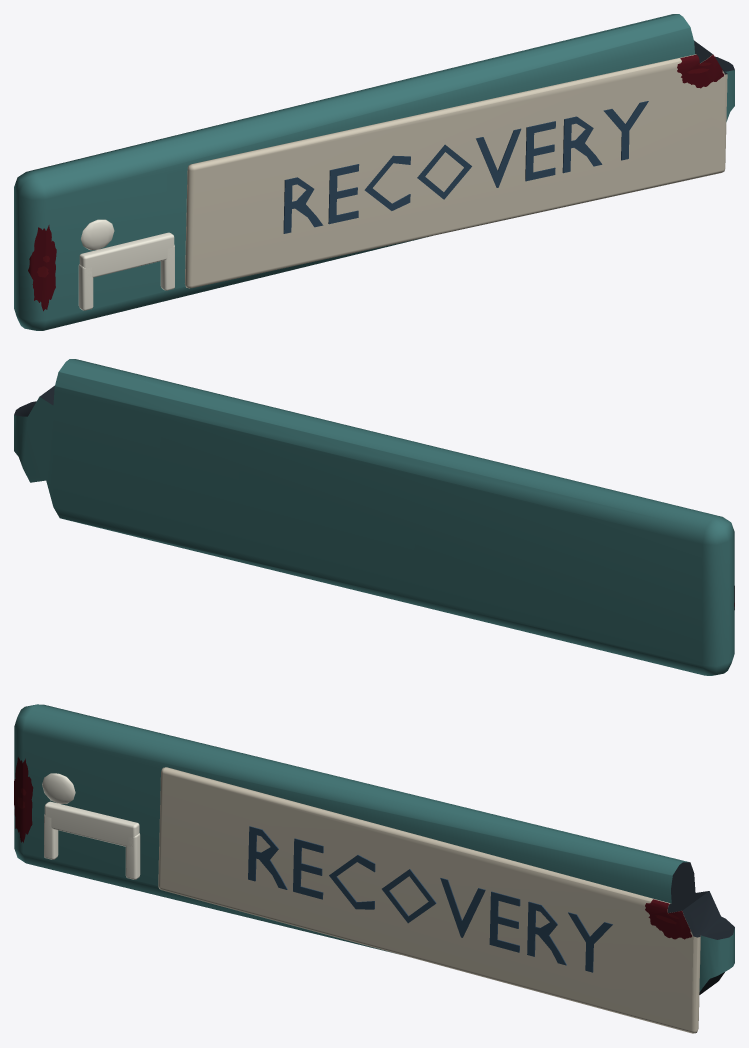
Rendered from room_sign_family.glb.
3 views of the same model, one above another, from view 1: azimuth 30°, elevation 25°; view 2: azimuth 150°, elevation 25°; view 3: azimuth 330°, elevation 25° (orthographic).
Parts seen in each view (by area): view 1: room_sign_family_Outbreak_Static; view 2: room_sign_family_Outbreak_Static; view 3: room_sign_family_Outbreak_Static.
Part boxes in pixels (x1,y1,x2,y2): room_sign_family_Outbreak_Static: (14, 14, 734, 330); room_sign_family_Outbreak_Static: (14, 359, 734, 675); room_sign_family_Outbreak_Static: (14, 704, 734, 1033).
Bounding box in the file's own units: 1.48 × 0.31 × 0.122.
